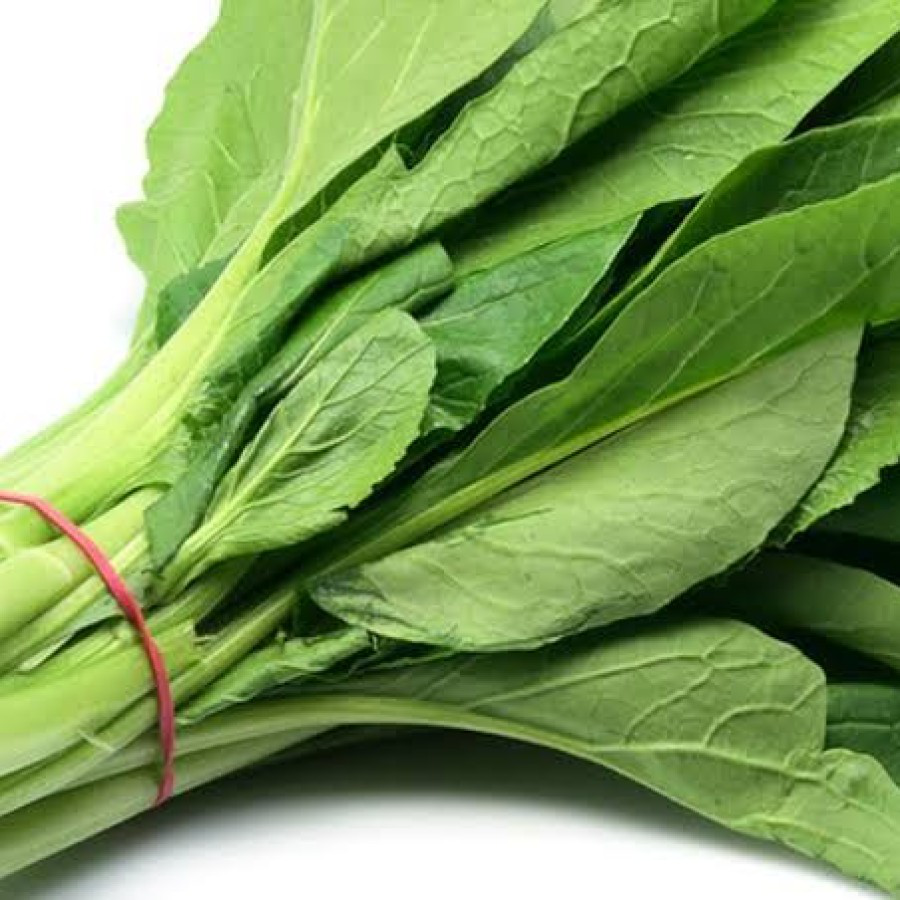Sawi: (153, 11, 872, 750)
